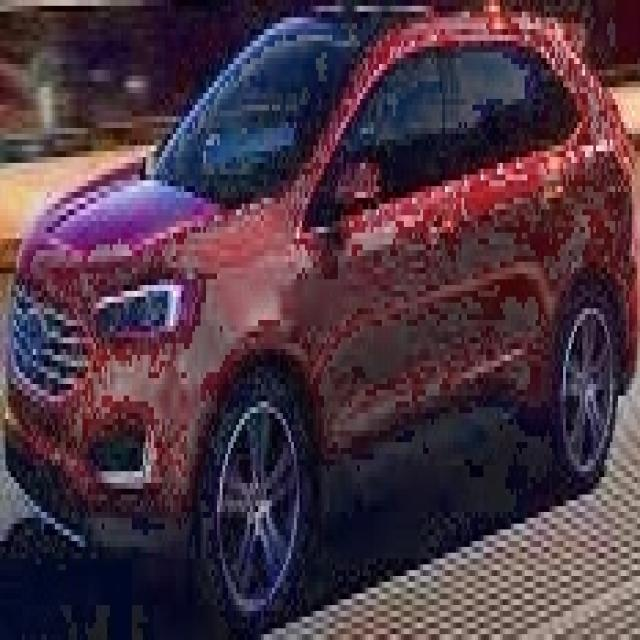maroon: (11, 8, 640, 584)
